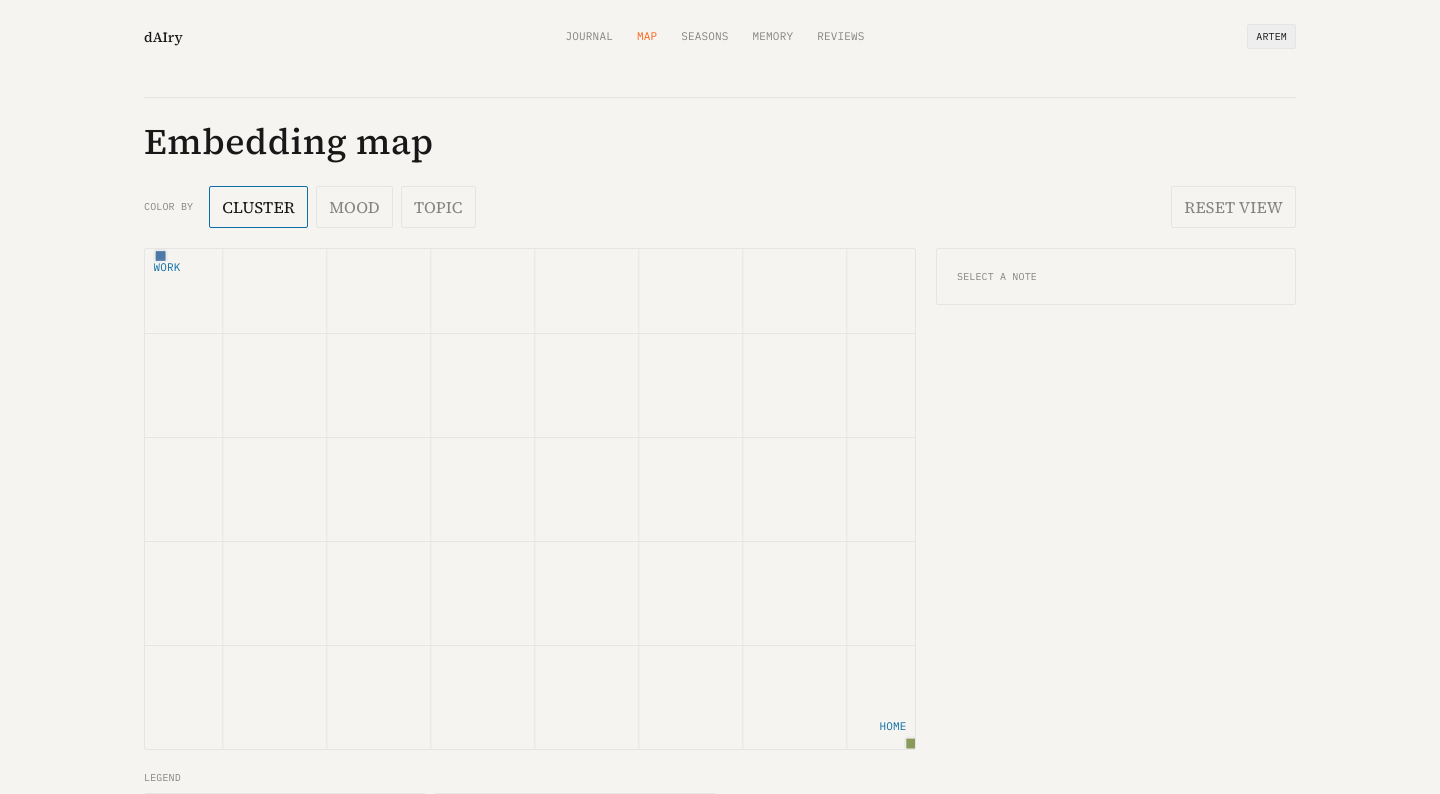
Test: Interactive embedding map navigation › AC-6: clicking a point still selects the note after zooming and panning
Press the mouse on the element with test id "map-viewport" at (535, 500), box x1=118 y1=229 x2=952 y2=771
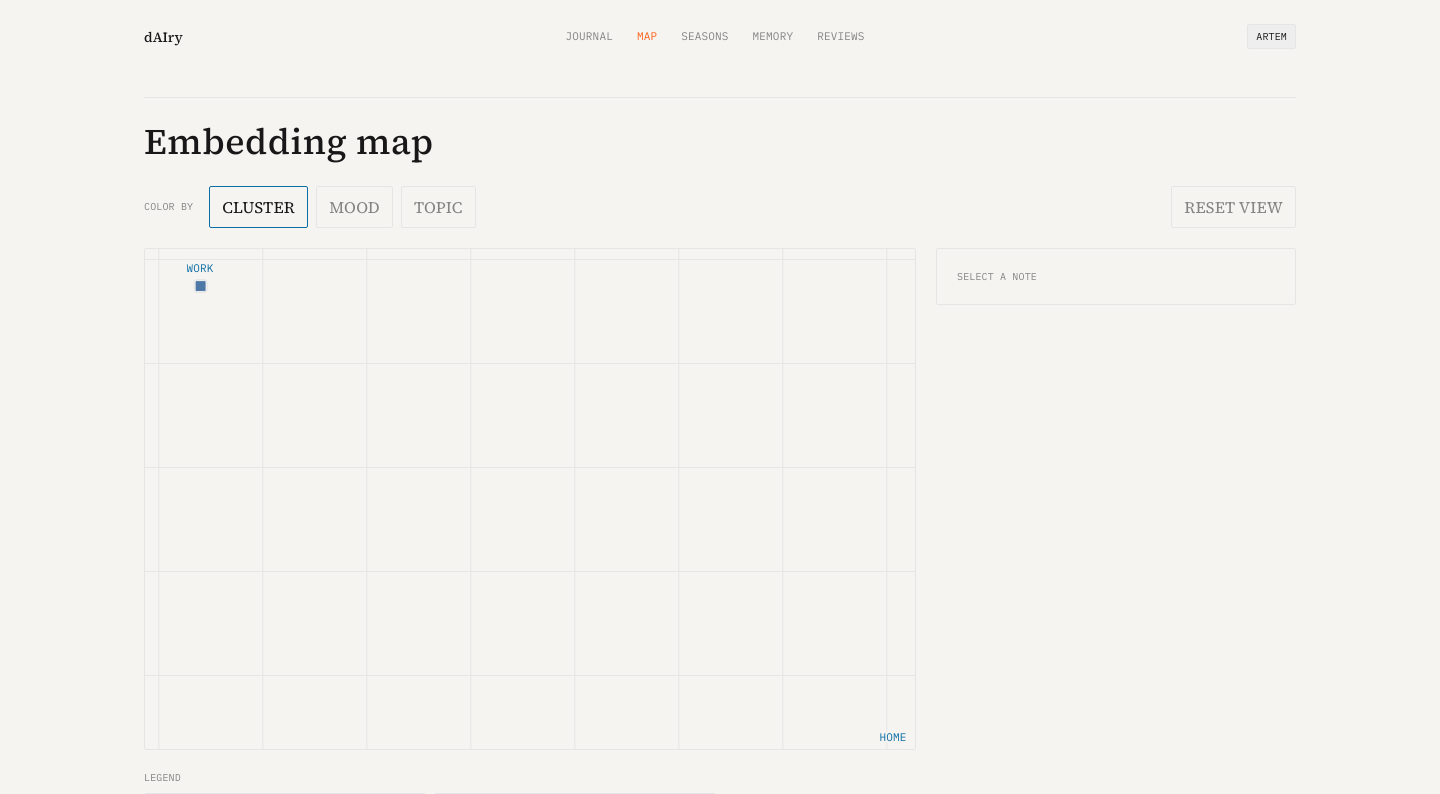
Click the button named "NOTE 1" at (200, 286), box x1=194 y1=280 x2=206 y2=292
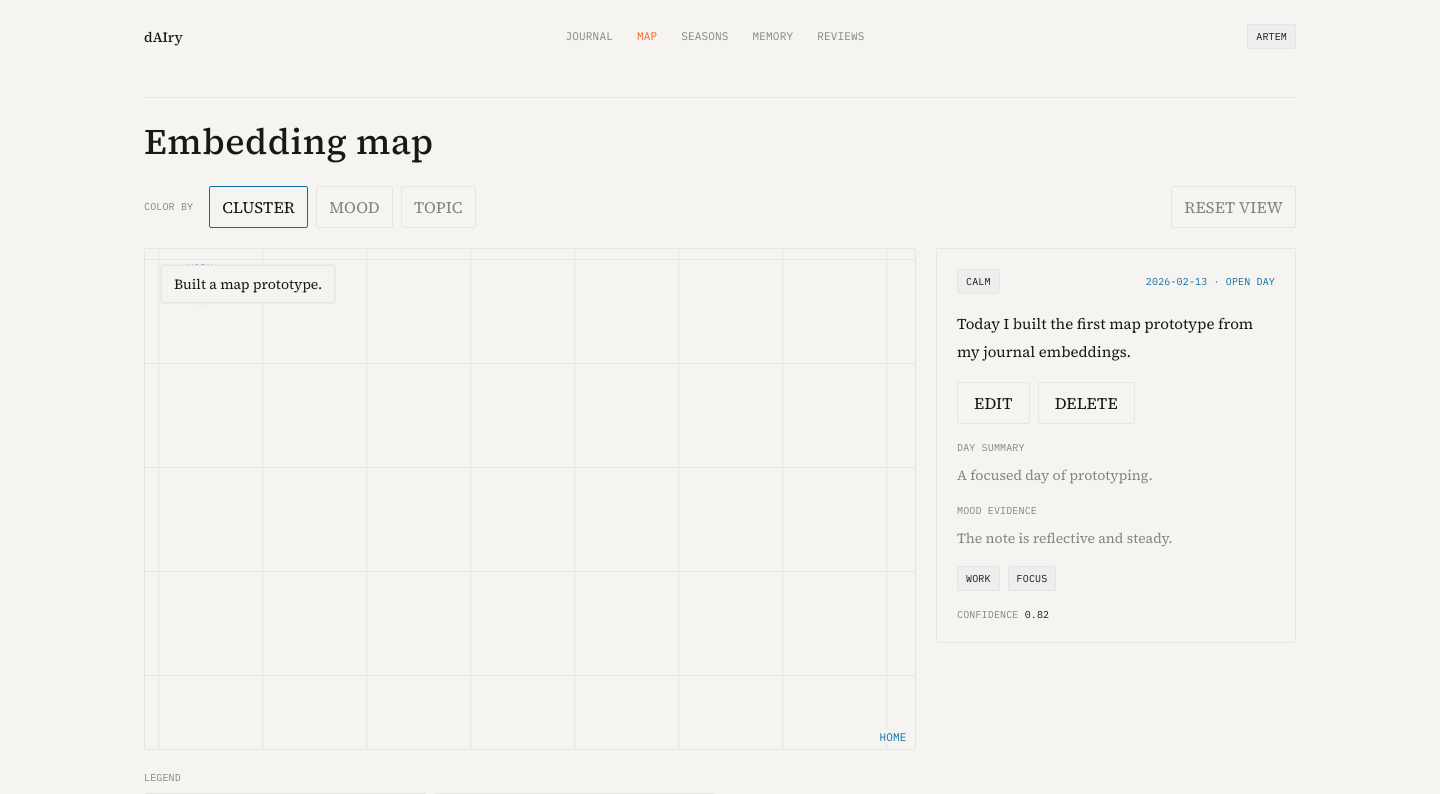
Expected: the text "Today I built the first map prototype from my journal embeddings." is shown, x1=957 y1=310 x2=1275 y2=366
